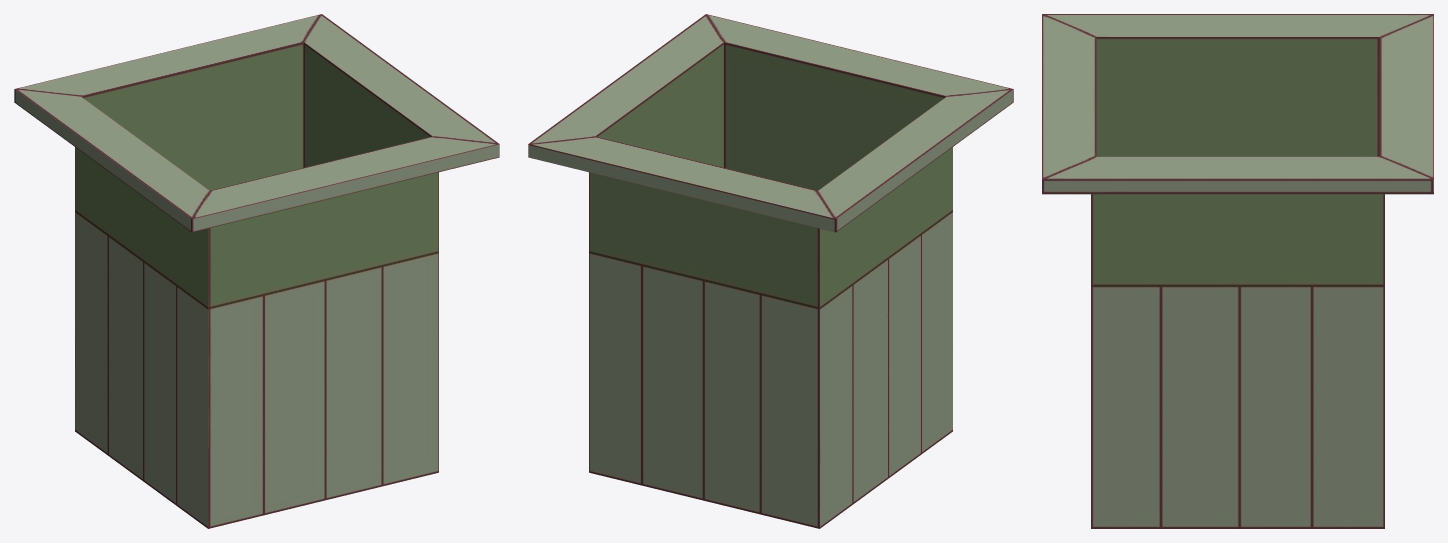
Rendered from Dream_Trash.fbx.
3 renders of one model, left to right at view 1: azimuth 30°, elevation 25°; view 2: azimuth 150°, elevation 25°; view 3: azimuth 270°, elevation 25°, orthographic. The views are drawn at different scales.
Parts seen in each view (by area): view 1: Box001; view 2: Box001; view 3: Box001.
Boxes of the visible parts, x1,y1,x2,y2 form: Box001: (14,14,499,528); Box001: (528,14,1013,528); Box001: (1042,14,1433,528).
Size of the model in its own units: 160 by 167 by 160.
Materials: 1 (1 with a texture image).
